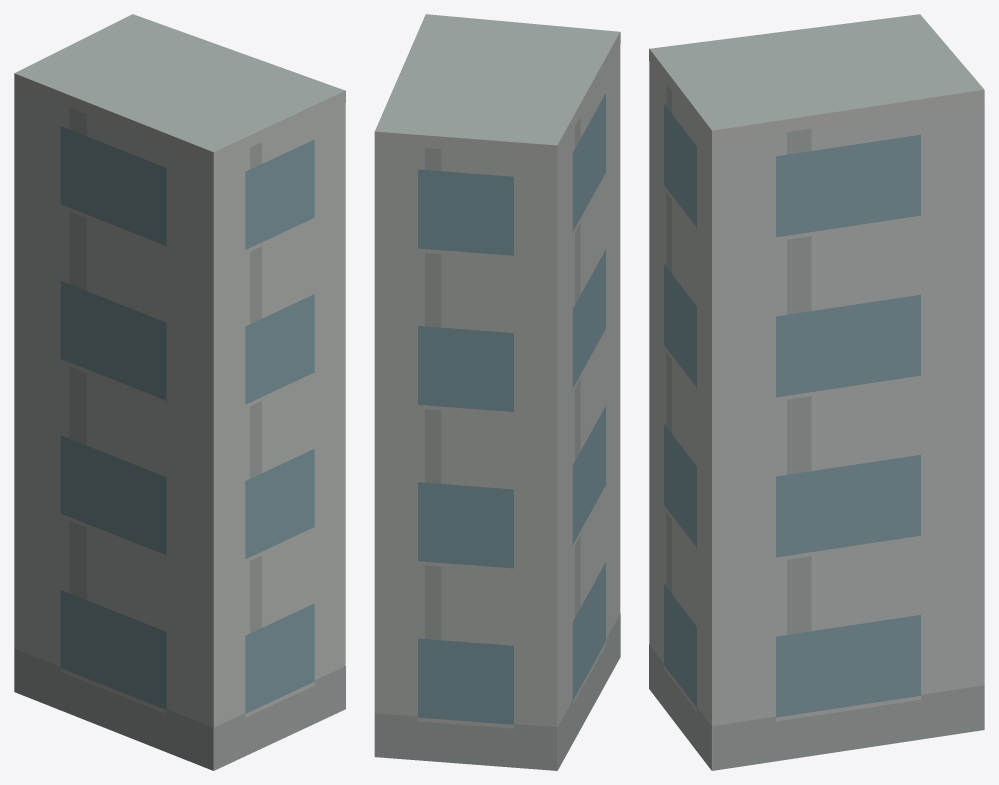
File: survey-upis-32645574.glb
The picture shows the model from 3 angles, left to right: view 1: azimuth 30°, elevation 25°; view 2: azimuth 150°, elevation 25°; view 3: azimuth 270°, elevation 25°; orthographic projection. The views are drawn at different scales.
Parts seen in each view (by area): view 1: survey-upis-32645574.tmp; view 2: survey-upis-32645574.tmp; view 3: survey-upis-32645574.tmp.
Part boxes in pixels (x1,y1,x2,y2): survey-upis-32645574.tmp: (14, 14, 345, 770); survey-upis-32645574.tmp: (374, 14, 620, 770); survey-upis-32645574.tmp: (649, 14, 984, 770).
Bounding box in the file's own units: 4.77 × 12.2 × 5.8.
